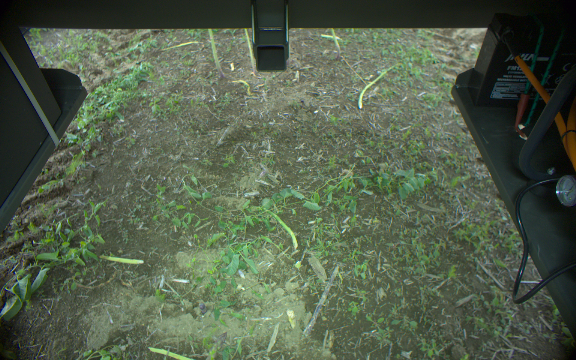aspa: (205, 30, 226, 77), (244, 29, 255, 74), (328, 27, 341, 61)
